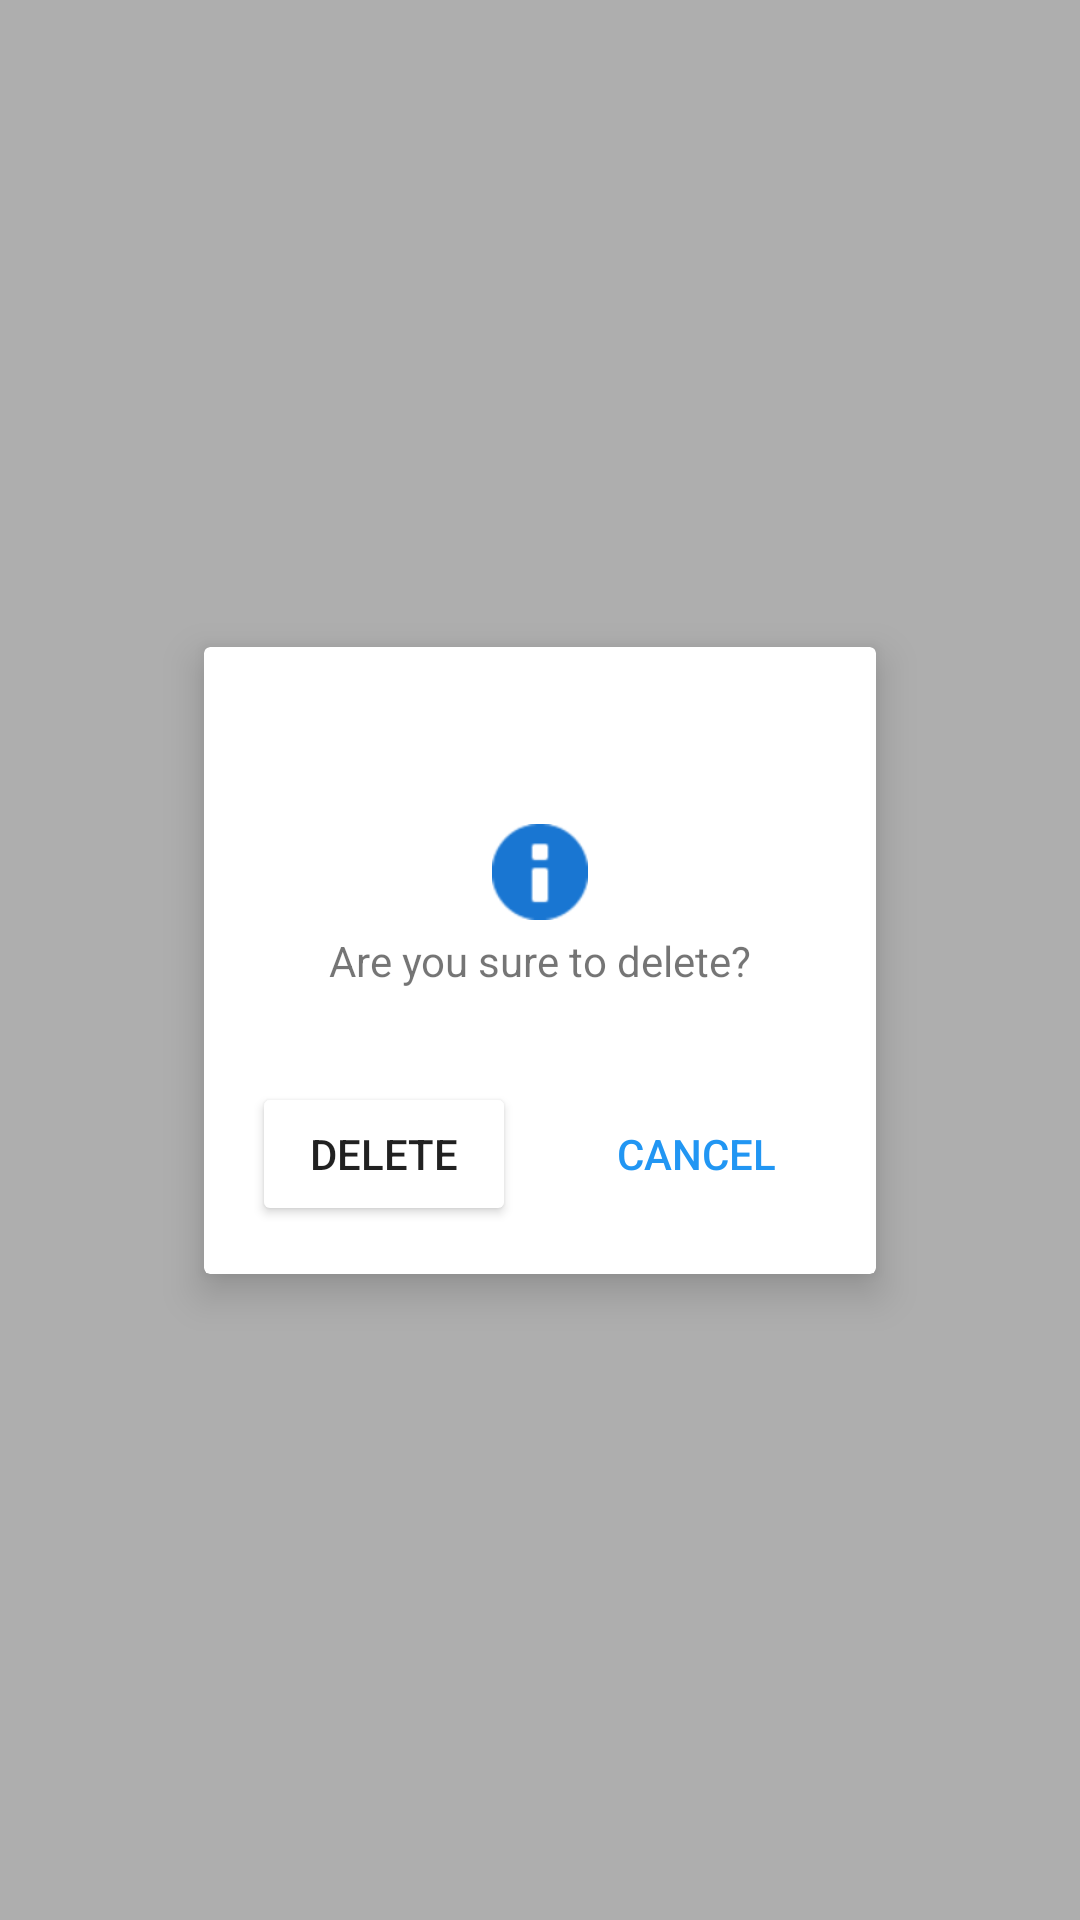

Named icons in this screenshot (1080*1920) and their centers, (x,y):
info: (540,872)
